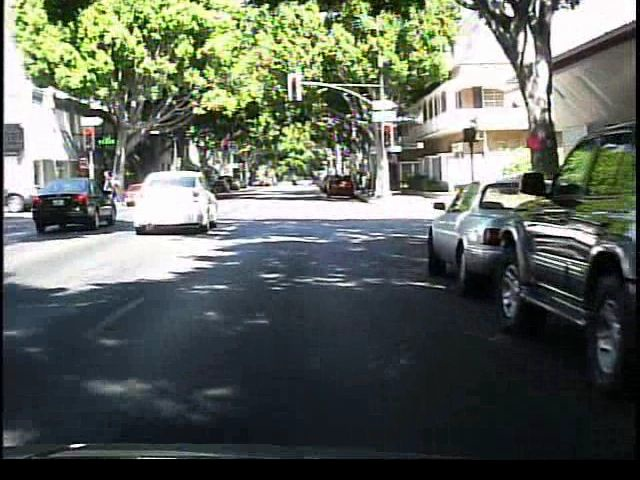person: (102, 163, 128, 205)
